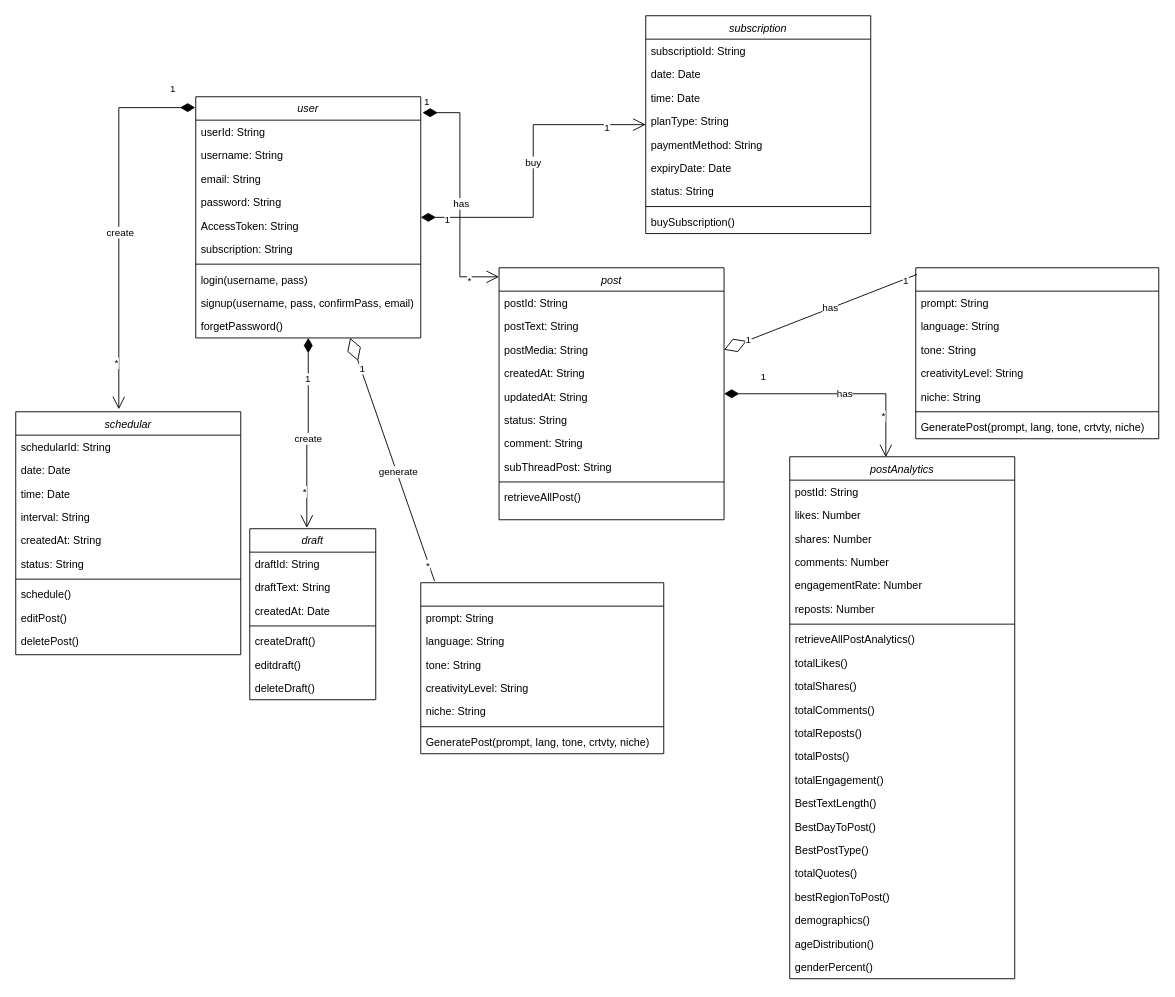
This 1175x997 diagram has some shape labels left out. The shapes that lost their labels are listed below. From the top down, each one's box as (x1, y1, x2, y2) in pixels, then its label:
(915, 267, 1159, 439): AIComment
(420, 582, 664, 754): AIPost
